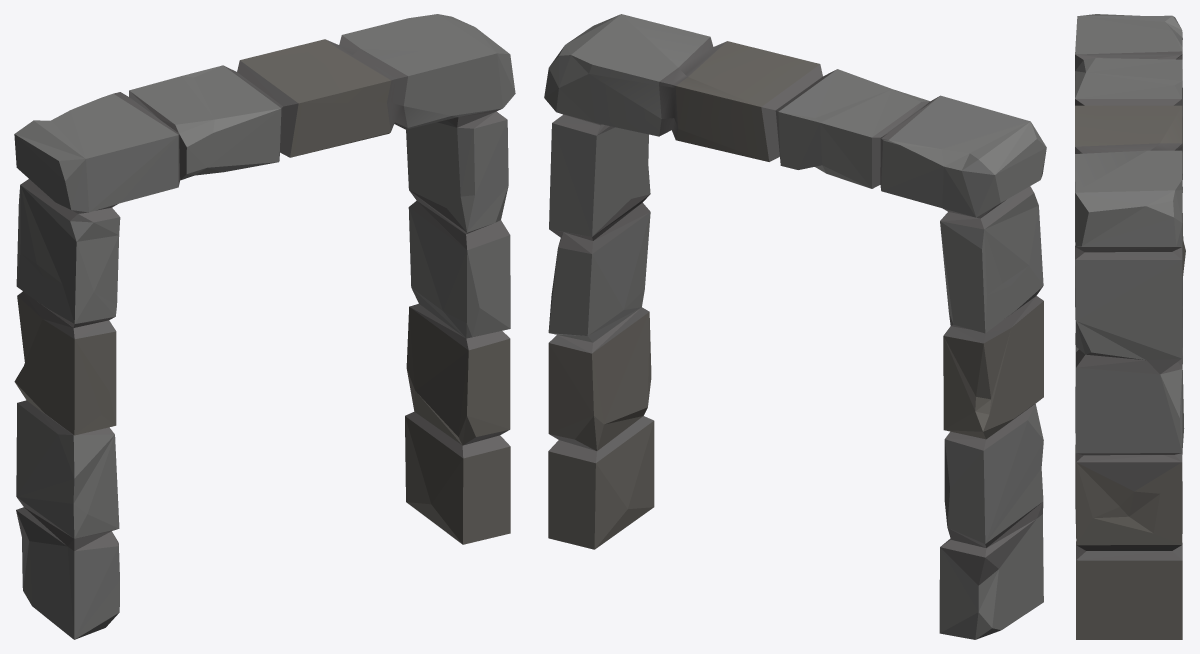
Rendered from SM_Env_Door_Frame_02.FBX.
The picture shows the model from 3 angles, left to right: view 1: azimuth 30°, elevation 25°; view 2: azimuth 150°, elevation 25°; view 3: azimuth 270°, elevation 25°; orthographic projection. The views are drawn at different scales.
Parts seen in each view (by area): view 1: SM_Env_Door_Frame_02; view 2: SM_Env_Door_Frame_02; view 3: SM_Env_Door_Frame_02.
Boxes of the visible parts, box(x1,y1,x2,y2) form: SM_Env_Door_Frame_02: box(14, 14, 515, 639); SM_Env_Door_Frame_02: box(544, 14, 1046, 639); SM_Env_Door_Frame_02: box(1075, 14, 1185, 639).
Size of what is drawn, in the model's own units: 293 by 68.4 by 300.
